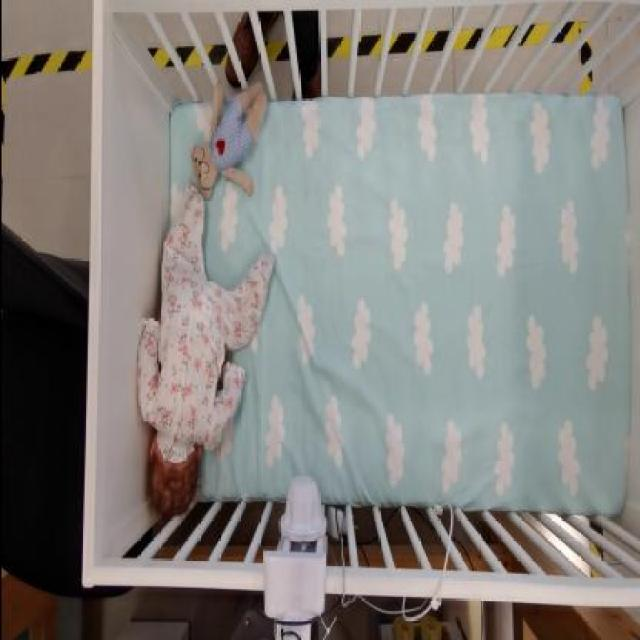baby: (131, 187, 280, 523)
